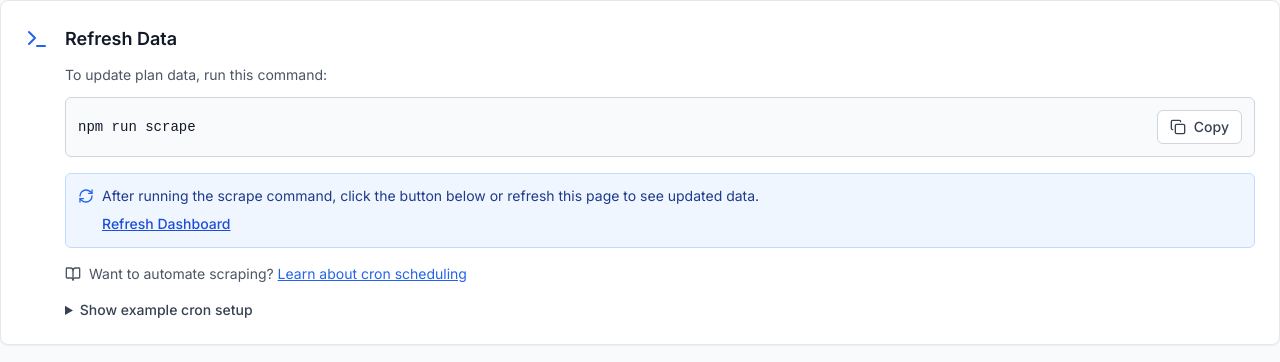
RefreshInstructions › Clipboard Copy Functionality › shows "Copied!" message after successful copy
Click the button with aria-label "copy command to clipboard": click(1199, 127) [1157, 110, 1242, 144]
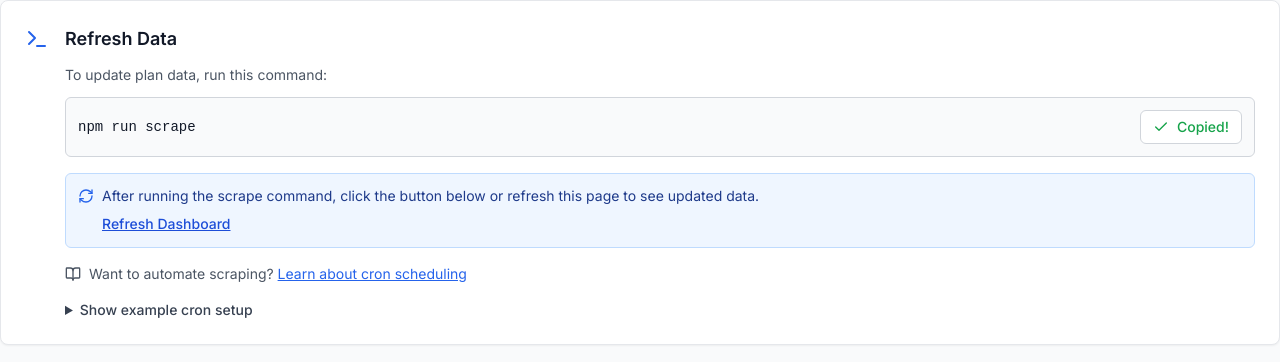
Check: the text "Copied!" is shown, box [1177, 117, 1229, 137]
